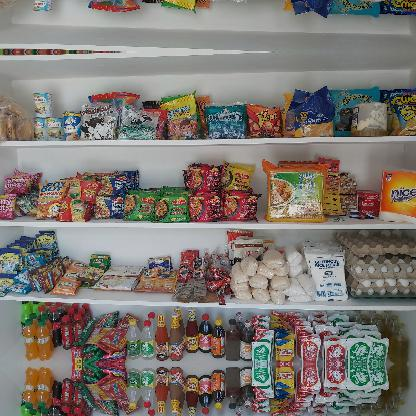Lady-s-Choice: (350, 102, 388, 136)
